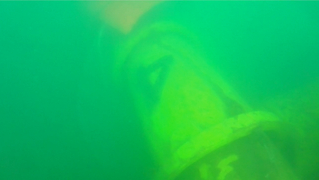4: (134, 54, 175, 117)
leak: (92, 1, 161, 32)
pipe: (111, 19, 300, 180), (257, 80, 319, 180)
